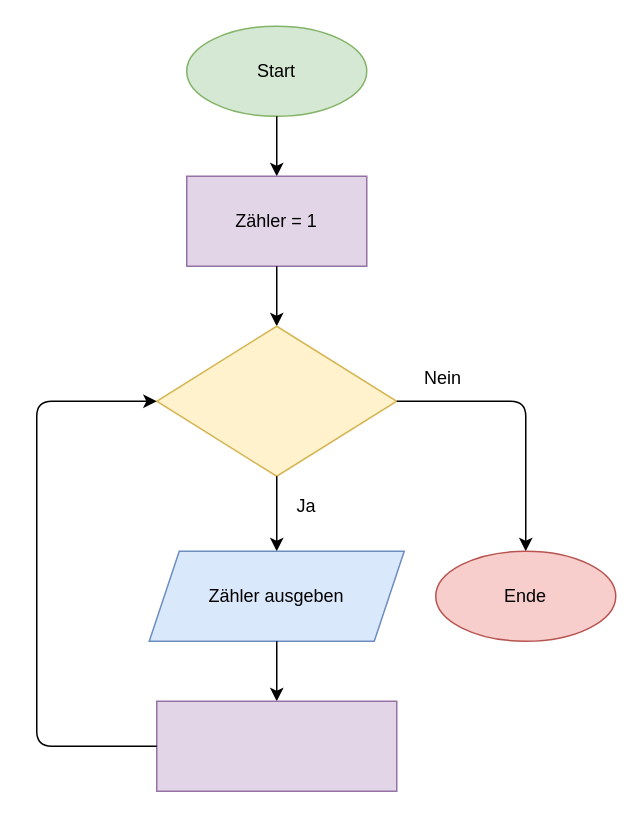
Image size: 642x818. Some labels were removed from this diagram. The shapes that lost their labels are listed below. From the top down, each one's box as (x1, y1, x2, y2) in pixels, then its label:
(155, 325, 397, 476): Zähler <= 10?
(155, 700, 397, 791): Zähler = Zähler + 1
